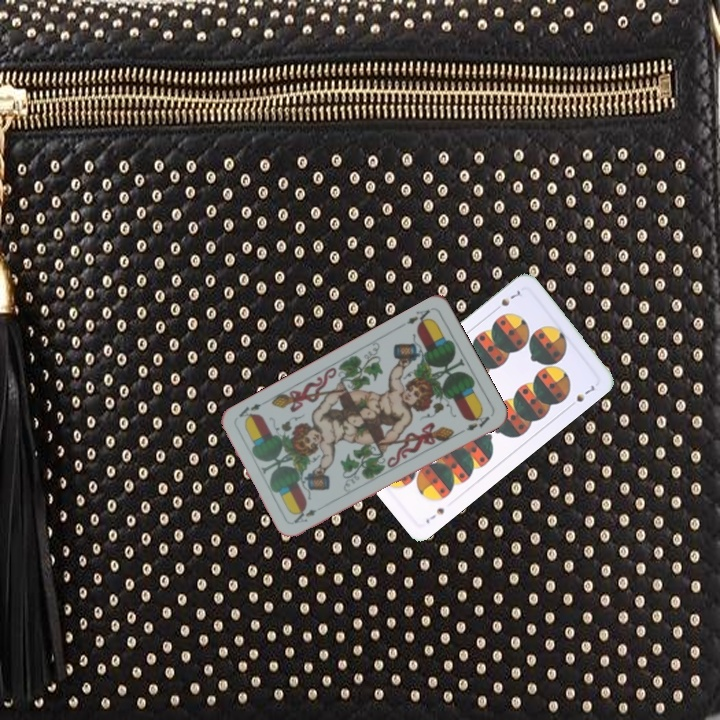EA: (397, 306, 434, 330), (290, 505, 319, 526)
S7: (490, 286, 523, 314), (422, 504, 447, 526)
